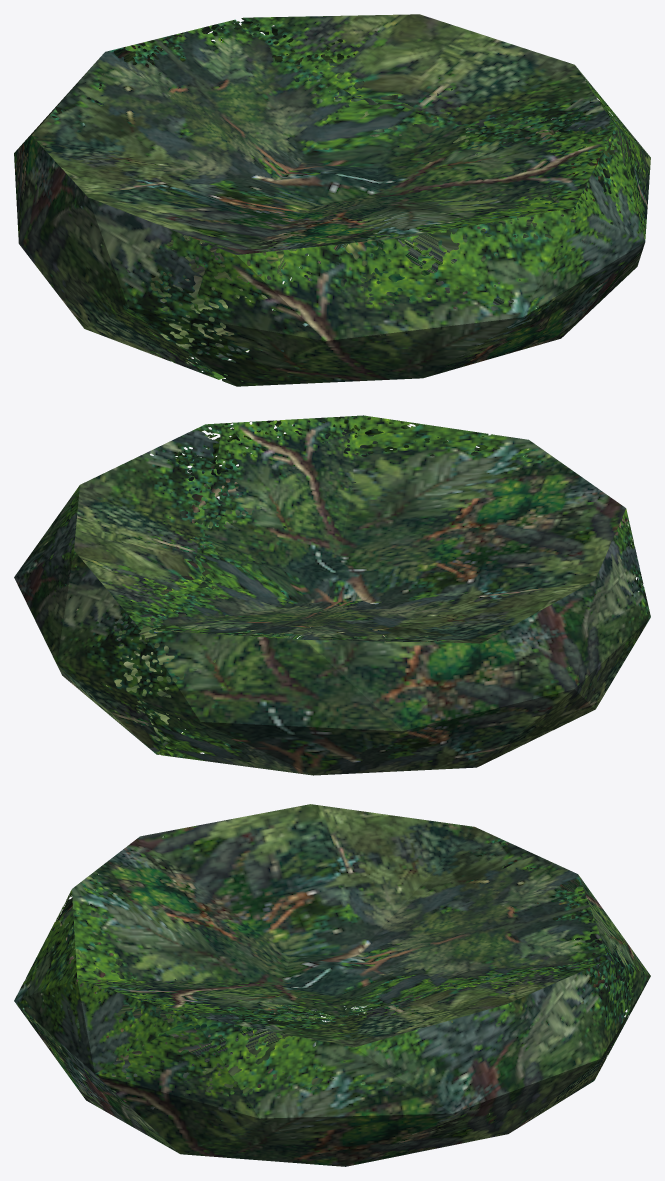
Rendered from MTree_3_Bch_1.gltf.
3 views of the same model, one above another, from view 1: azimuth 30°, elevation 25°; view 2: azimuth 150°, elevation 25°; view 3: azimuth 270°, elevation 25° (orthographic). The views are drawn at different scales.
Parts seen in each view (by area): view 1: MTree_3_Bch_1; view 2: MTree_3_Bch_1; view 3: MTree_3_Bch_1.
Part boxes in pixels (box(x1,y1,x2,y2)): MTree_3_Bch_1: box(14, 14, 650, 386); MTree_3_Bch_1: box(14, 415, 650, 775); MTree_3_Bch_1: box(14, 804, 650, 1166).
Bounding box in the file's own units: 15.24 × 3.91 × 15.89.
Materials: 1 (1 with a texture image).
